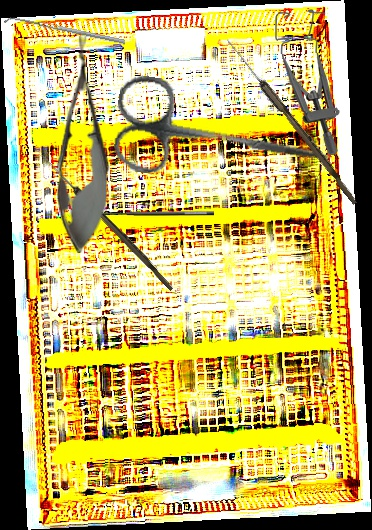Hook Surgical: (90, 209, 214, 225)
Iris Scissors: (107, 72, 341, 202)
Micro Scissor: (55, 36, 110, 253)
Spatula Surgical: (3, 14, 126, 49)
Speculum: (273, 8, 341, 156)
Surgical Spoon: (222, 37, 362, 205), (37, 151, 177, 292)
